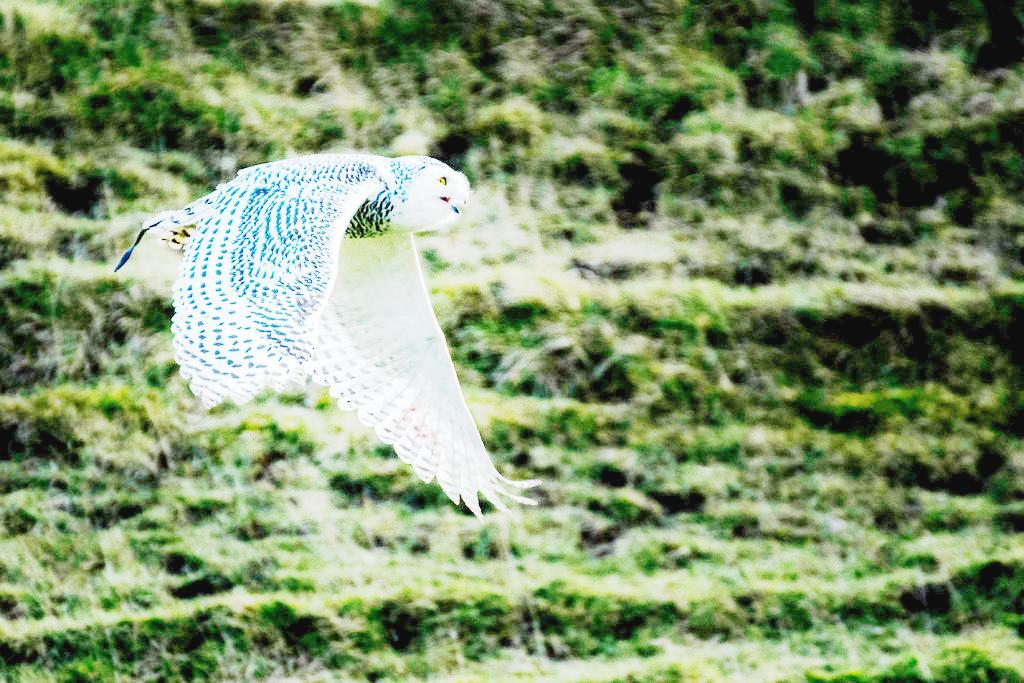Owl: (111, 150, 547, 532)
